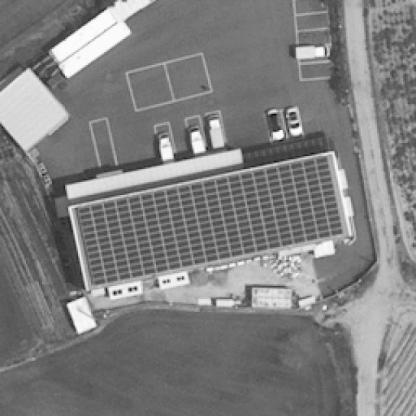solar-pv-panel: (75, 157, 344, 285)
